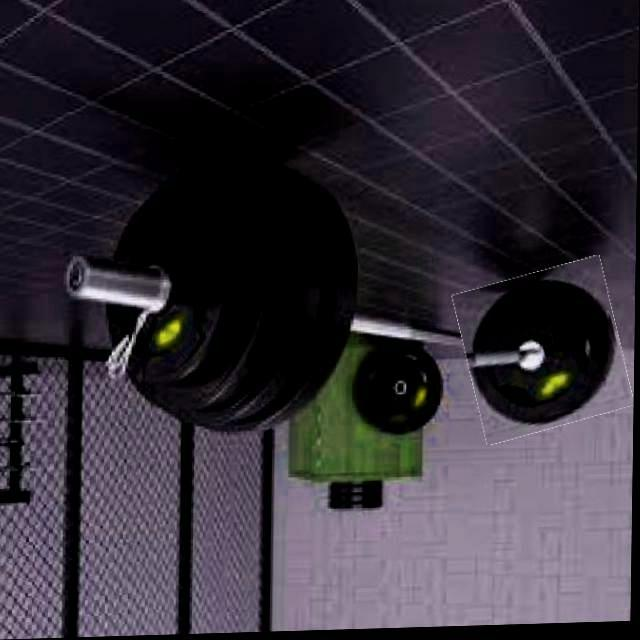barbell: (106, 148, 367, 447), (460, 266, 630, 442)
